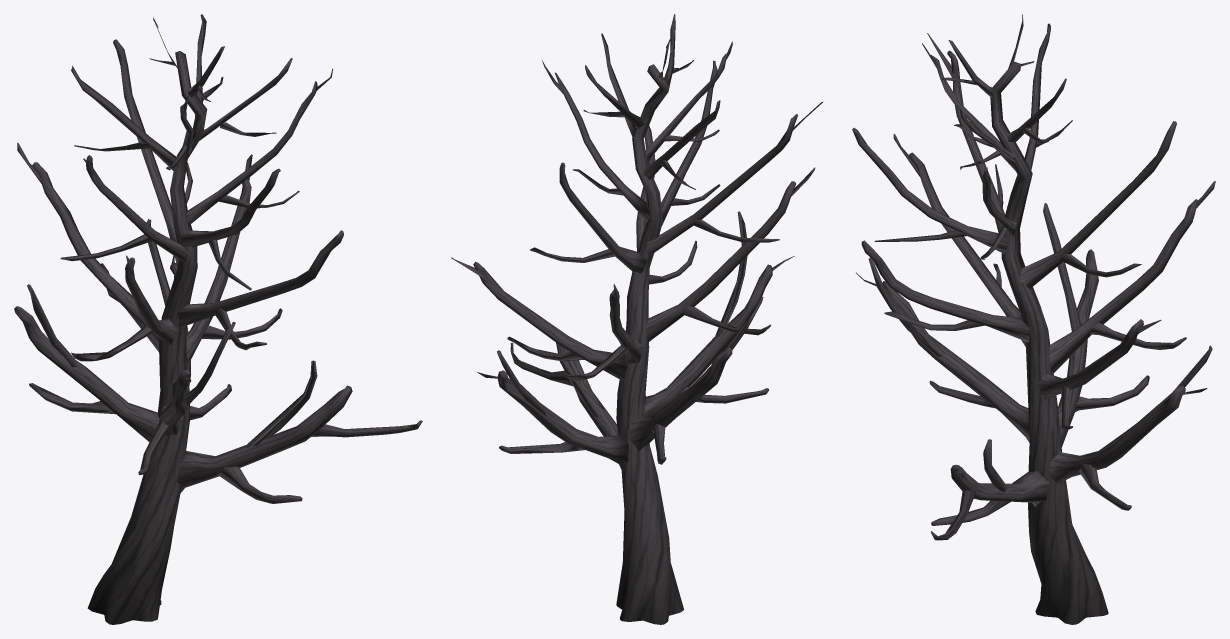
The model's file is dead1.glb.
3 views of the same model, side by side, from view 1: azimuth 30°, elevation 25°; view 2: azimuth 150°, elevation 25°; view 3: azimuth 270°, elevation 25° (orthographic). The views are drawn at different scales.
Parts seen in each view (by area): view 1: DeadTree_2; view 2: DeadTree_2; view 3: DeadTree_2.
Part boxes in pixels (x1=…): DeadTree_2: x1=14, y1=14, x2=422, y2=624; DeadTree_2: x1=451, y1=14, x2=823, y2=624; DeadTree_2: x1=852, y1=14, x2=1215, y2=624.
Size of the model in its own units: 6.72 by 11.49 by 6.37.
1 material, 1 textured.
